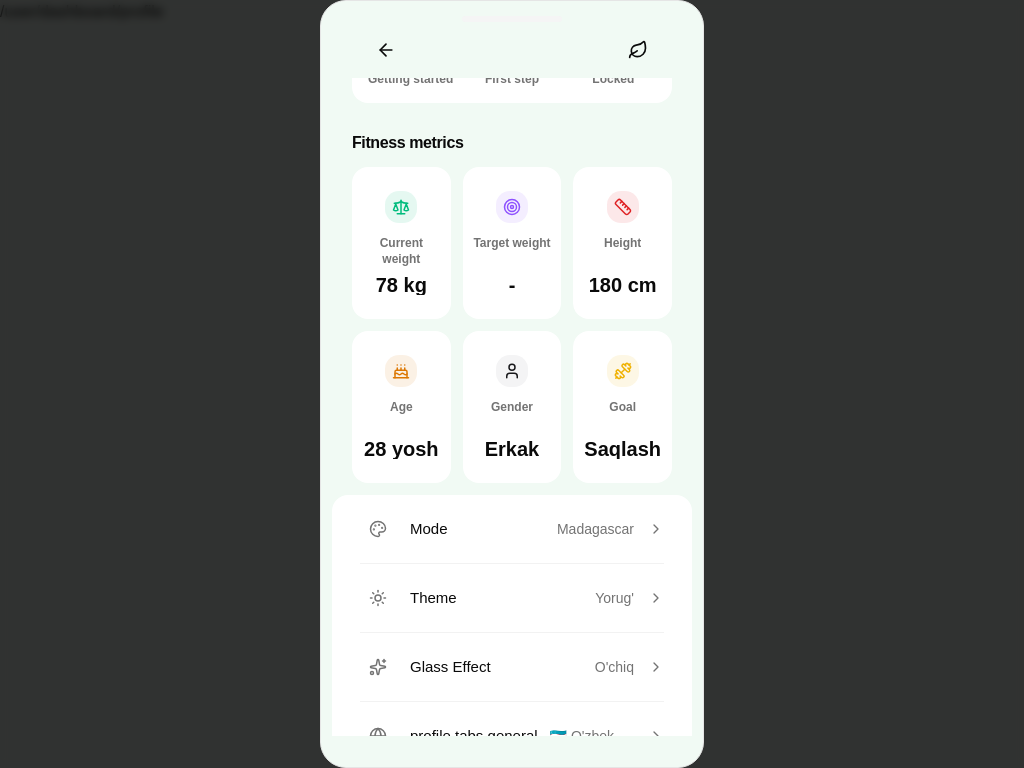
Scenario: ProfileDrawer › opens goals from the profile vitals card as a routed drawer
(page scrolled)
Step 1. Click the button "Goal Saqlash" → (623, 407), box [573,331,672,483]
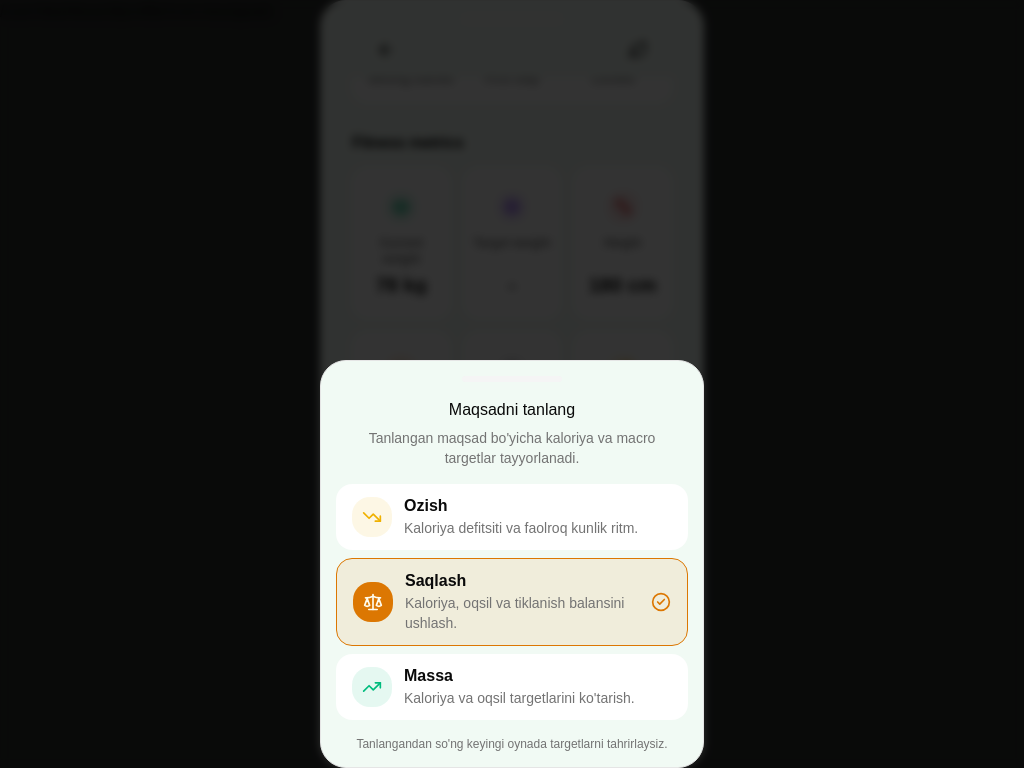
Check: the heading "Maqsadni tanlang" is shown, box [449,398,575,422]
